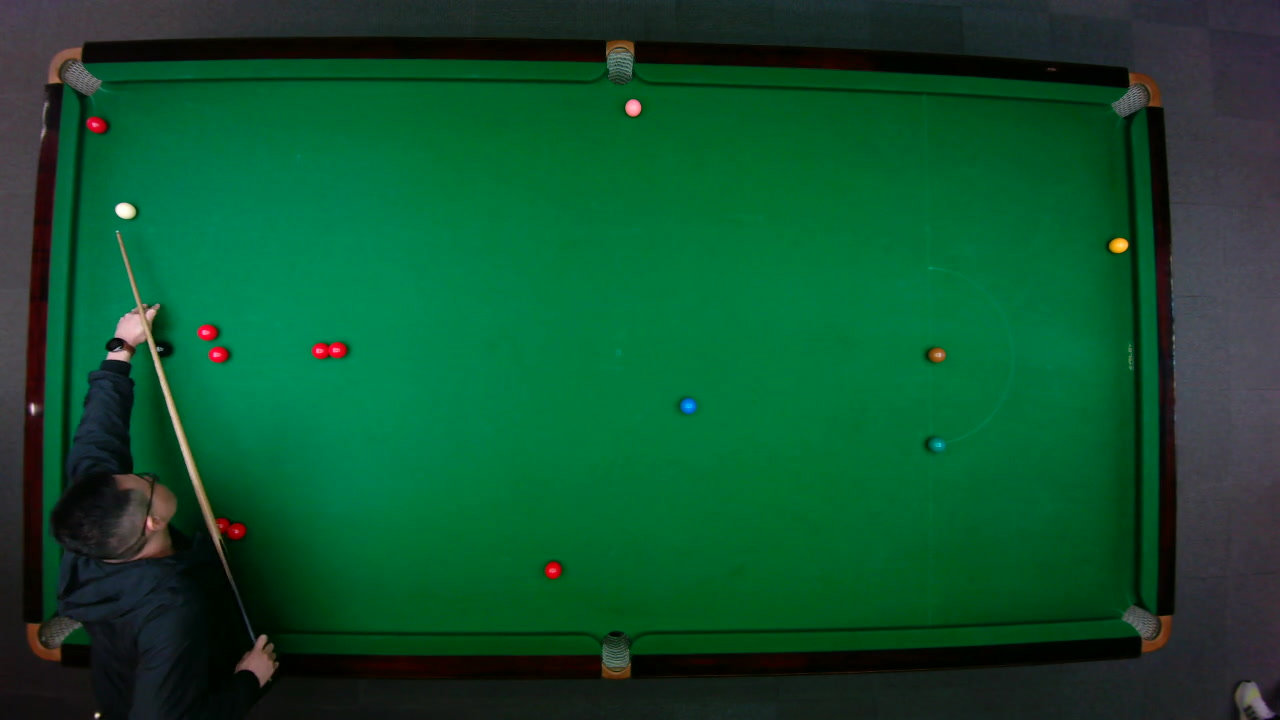bag: (45, 46, 102, 96), (25, 613, 83, 660), (1119, 603, 1172, 652), (1108, 71, 1161, 118), (600, 629, 630, 679), (605, 38, 633, 85)
blue: (678, 396, 697, 414)
brown: (926, 346, 946, 362)
cue: (109, 227, 259, 647)
green: (926, 434, 946, 453)
pink: (623, 97, 642, 117)
red: (84, 114, 108, 133), (325, 340, 347, 359), (225, 521, 247, 540), (195, 322, 218, 340), (542, 559, 562, 579), (207, 345, 229, 363), (212, 516, 232, 535), (310, 341, 330, 359)
white: (113, 200, 137, 219)
yellow: (1107, 236, 1129, 253)
zone: (927, 265, 1013, 444)
